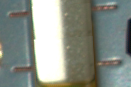border: (90, 4, 120, 13), (93, 59, 123, 67), (7, 10, 33, 19), (10, 66, 36, 74)
liquidlevel: (35, 80, 99, 87)
